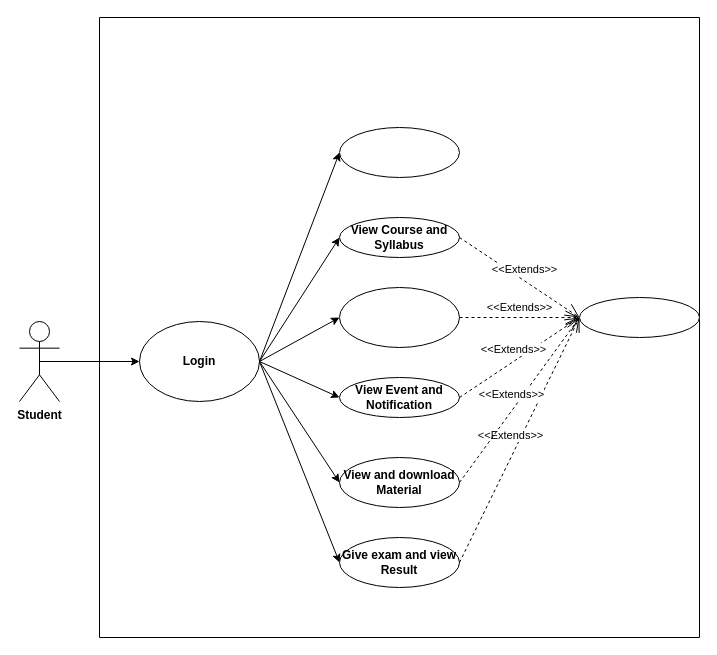
The diagram is 717 pixels wide and 655 high, and some of its shapes have lost their labels. The centre of each missing label's shape, as x and y in pixels:
Update Profile and Password: point (399, 152)
View: point (639, 317)
View Exam_schedule: point (399, 317)
